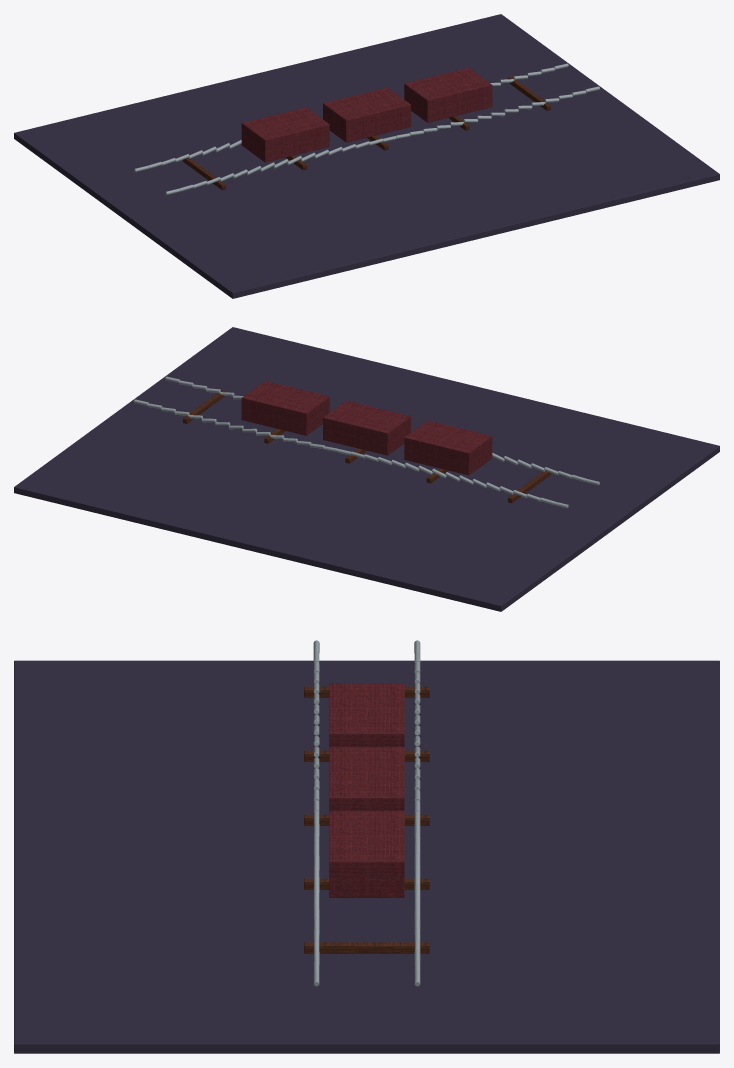
Rendered from coaster_platform.glb.
The picture shows the model from 3 angles, top to bottom: view 1: azimuth 30°, elevation 25°; view 2: azimuth 150°, elevation 25°; view 3: azimuth 270°, elevation 25°; orthographic projection. The views are drawn at different scales.
Parts seen in each view (by area): view 1: Runtime_coaster_platform; view 2: Runtime_coaster_platform; view 3: Runtime_coaster_platform.
Boxes of the visible parts, bbox=[...] form: Runtime_coaster_platform: bbox=[14, 14, 719, 298]; Runtime_coaster_platform: bbox=[14, 327, 719, 611]; Runtime_coaster_platform: bbox=[14, 640, 719, 1053].
Size of the model in its own units: 18 by 1.97 by 14.
Materials: 4 (2 with a texture image).
